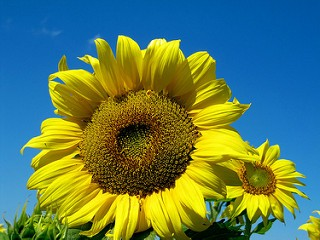flower: (20, 30, 259, 240), (213, 135, 311, 225)
